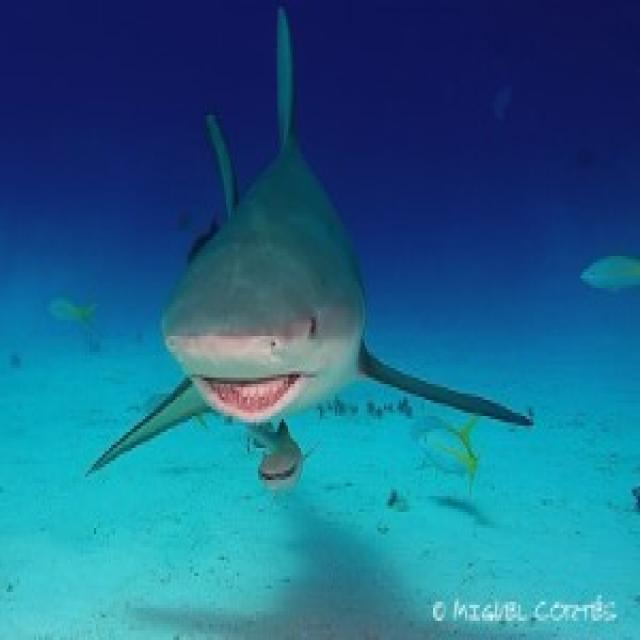Shark: (88, 6, 537, 512)
